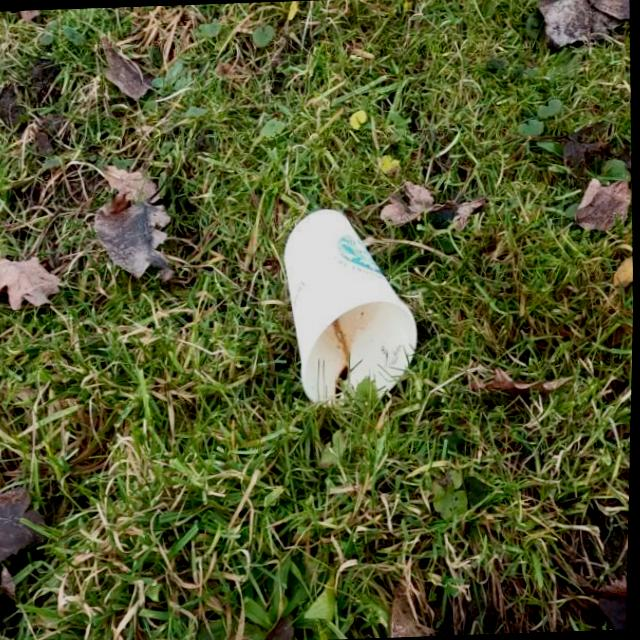Cup: (269, 196, 426, 417)
